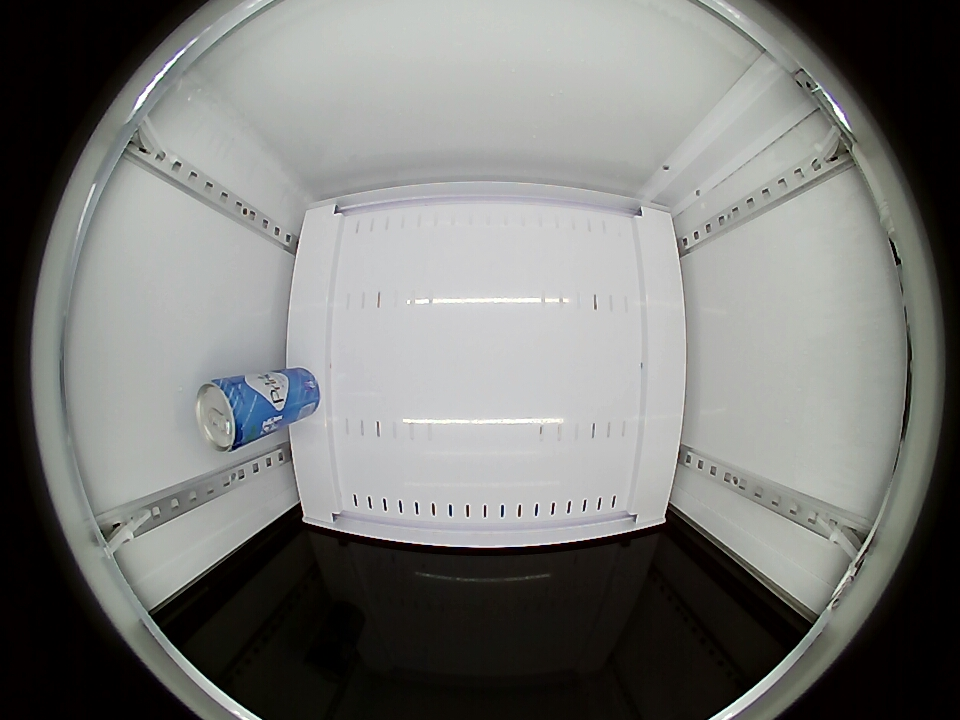qingdaowangzi-2: (195, 377, 260, 452)
